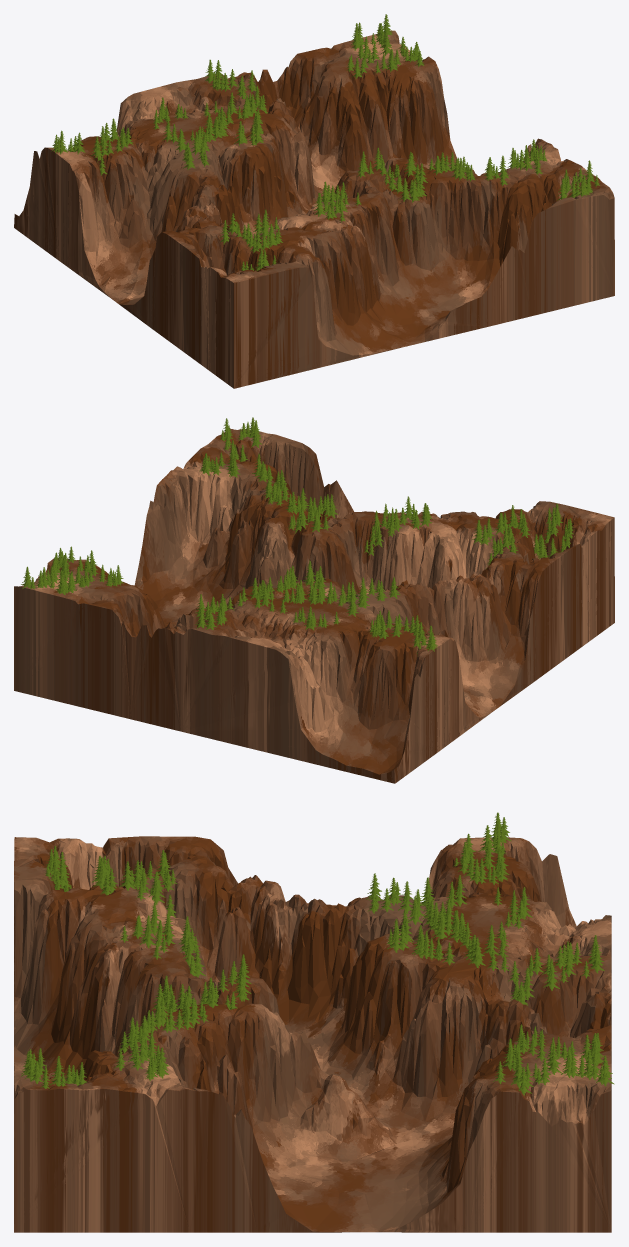
File: low_poly_canyon_free.glb
3 views of the same model, one above another, from view 1: azimuth 30°, elevation 25°; view 2: azimuth 150°, elevation 25°; view 3: azimuth 270°, elevation 25° (orthographic). The views are drawn at different scales.
Visible parts, largest first — view 1: New Project Mesh Output.001; view 2: New Project Mesh Output.001; view 3: New Project Mesh Output.001.
Boxes of the visible parts, box(x1,y1,x2,y2) form: New Project Mesh Output.001: box(14, 30, 614, 388); New Project Mesh Output.001: box(14, 428, 614, 783); New Project Mesh Output.001: box(14, 836, 611, 1232).
Size of the model in its own units: 8.05 by 2.55 by 8.05.
Materials: 3 (2 with a texture image).
